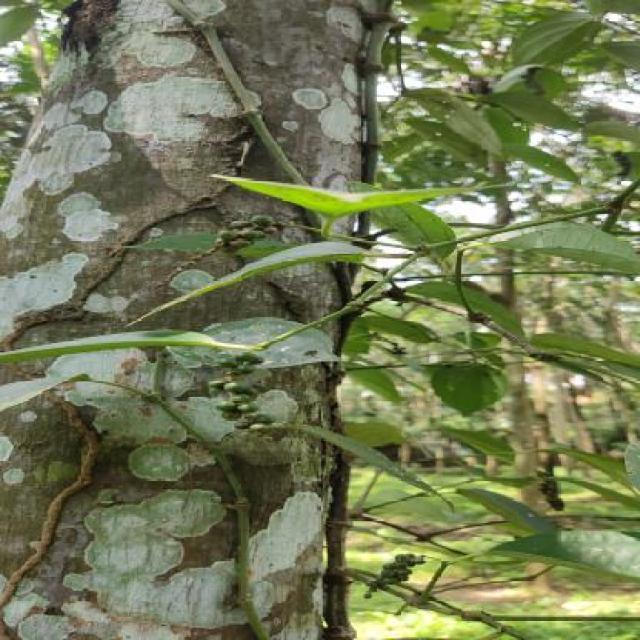UNRIPE: (209, 352, 277, 430), (358, 554, 425, 597), (212, 215, 279, 247), (530, 471, 564, 512), (520, 68, 546, 94), (609, 150, 632, 179)
